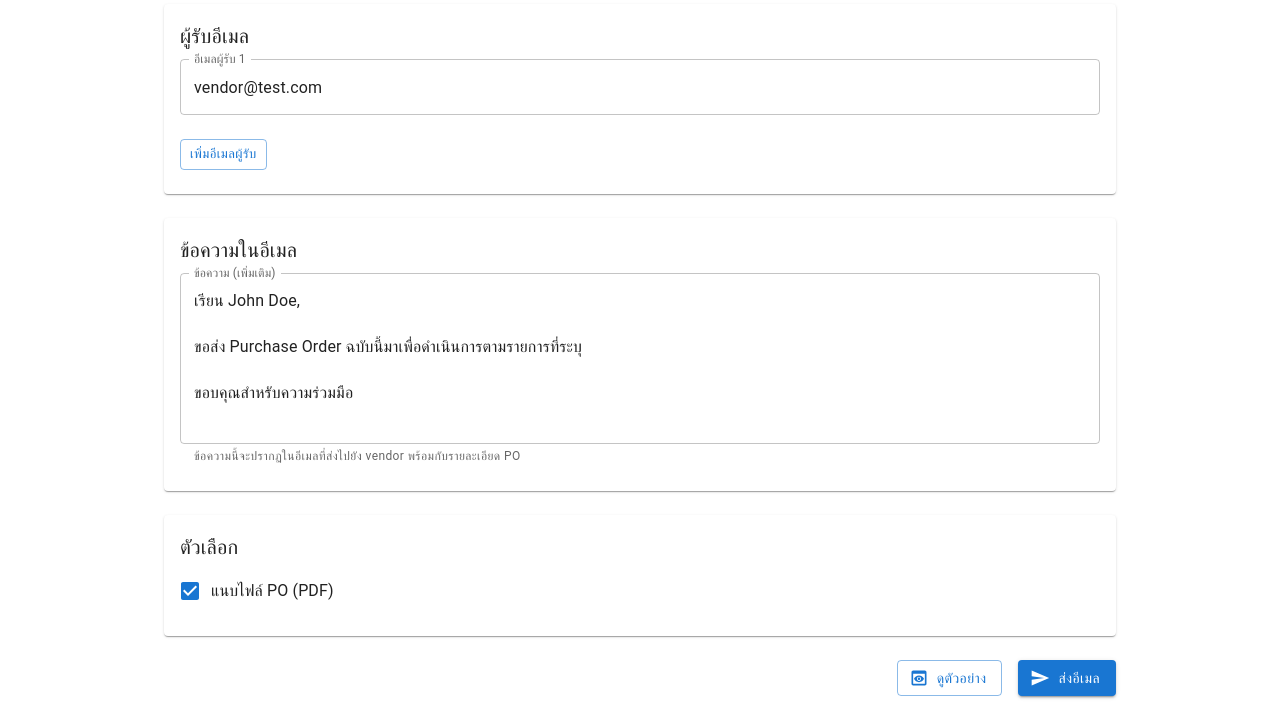
POEmailForm › Preview Functionality › closes preview dialog when close button is clicked
(page scrolled)
# Open preview
Click the button "ดูตัวอย่าง" at (950, 678), box [897, 660, 1002, 696]
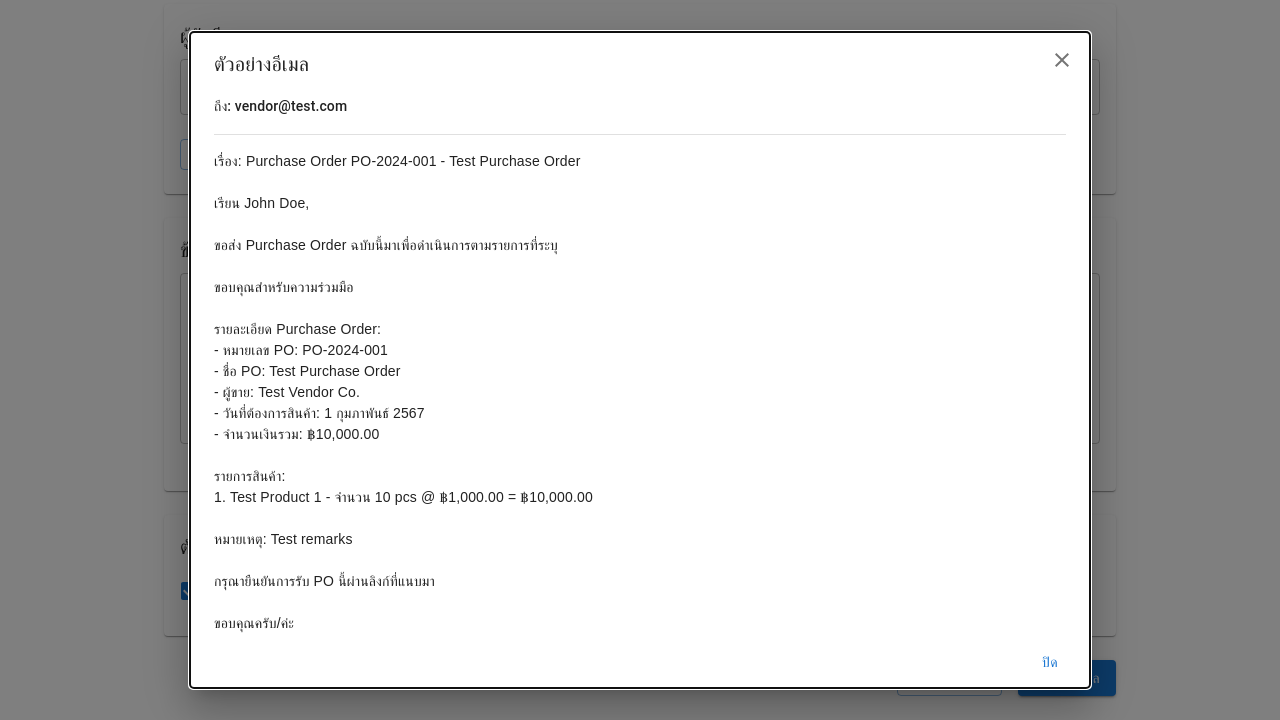
Now the heading "ตัวอย่างอีเมล" is shown, box [190, 32, 1090, 96]
# Close preview using the close button in the dialog
Click the button "ปิด" at (1050, 662), box [1018, 644, 1082, 680]
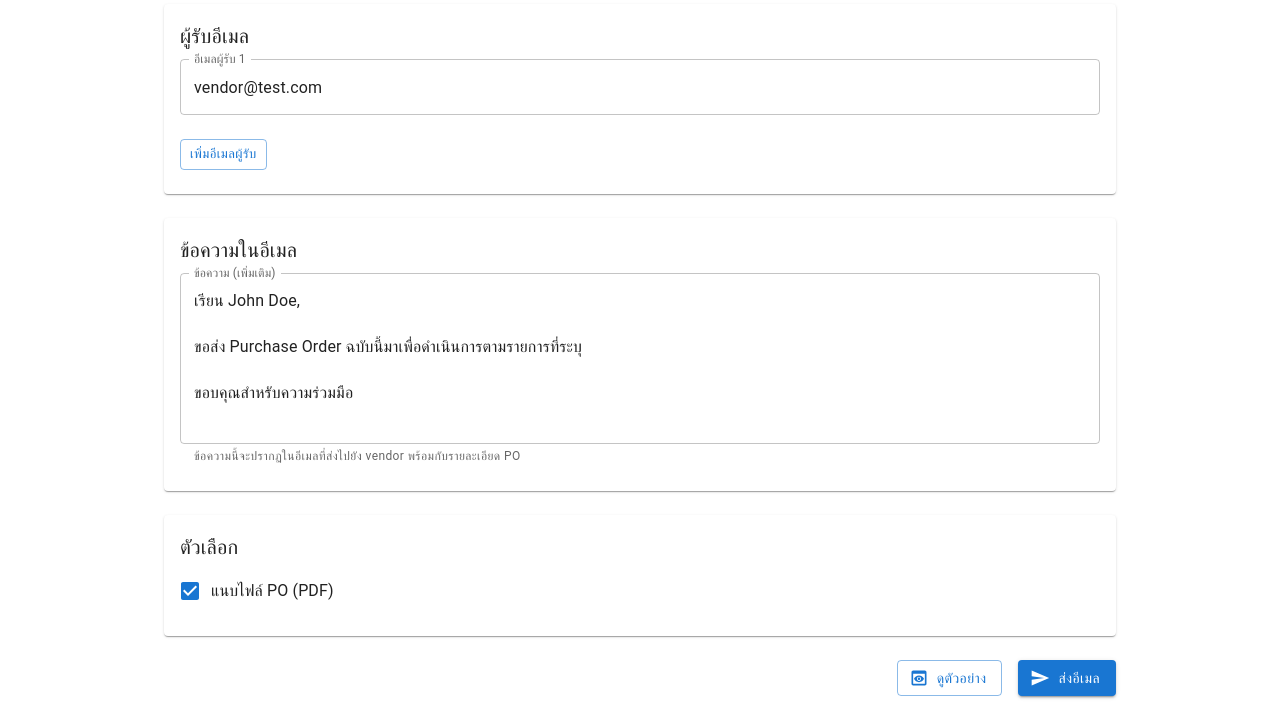
Now the heading "ตัวอย่างอีเมล" is gone
